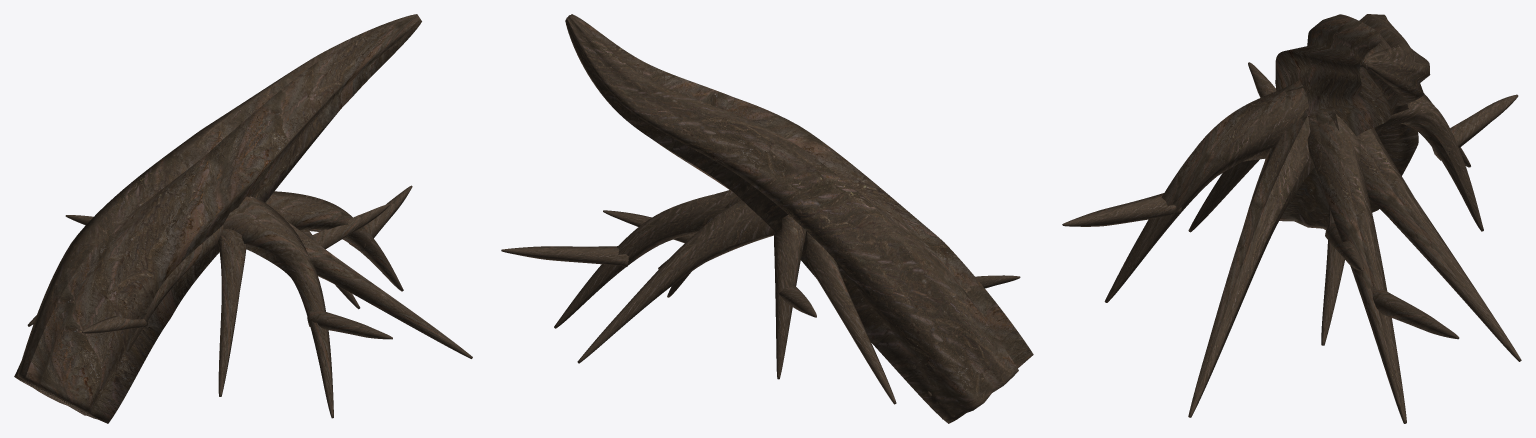
Rendered from wood-root.glb.
The picture shows the model from 3 angles, left to right: view 1: azimuth 30°, elevation 25°; view 2: azimuth 150°, elevation 25°; view 3: azimuth 270°, elevation 25°; orthographic projection. The views are drawn at different scales.
Visible parts, largest first — view 1: Branching spider root · export mesh; view 2: Branching spider root · export mesh; view 3: Branching spider root · export mesh.
Part boxes in pixels (x1,y1,x2,y2): Branching spider root · export mesh: [14, 14, 472, 423]; Branching spider root · export mesh: [501, 14, 1033, 423]; Branching spider root · export mesh: [1062, 14, 1521, 423].
Bounding box in the file's own units: 0.2541 × 0.1708 × 0.18.
1 material, 1 textured.
